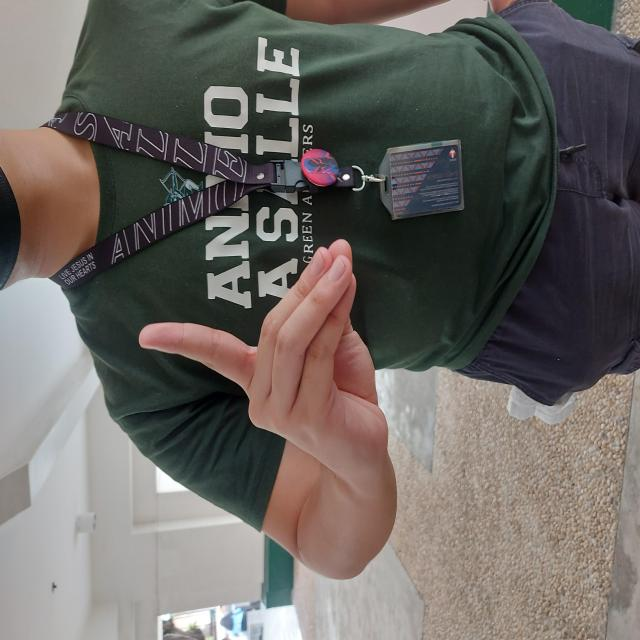D: (161, 136, 406, 390)
